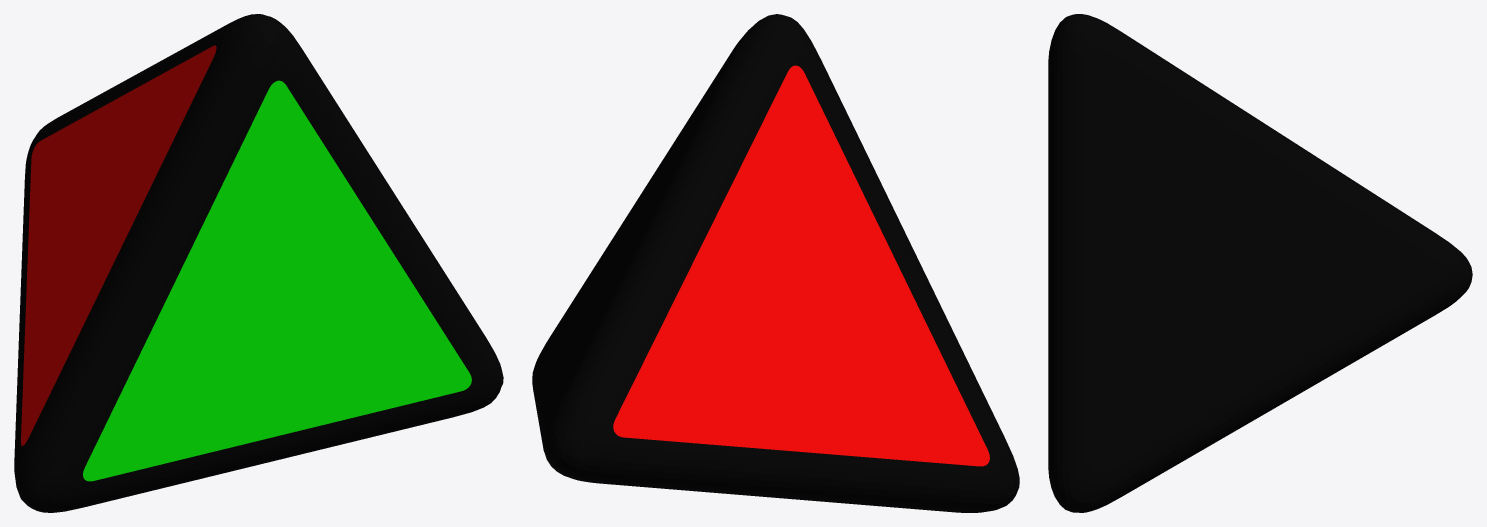
3 renders of one model, left to right at view 1: azimuth 30°, elevation 25°; view 2: azimuth 150°, elevation 25°; view 3: azimuth 270°, elevation 25°, orthographic. The views are drawn at different scales.
Visible parts, largest first — view 1: t_gr; view 2: t_gr; view 3: t_gr.
Part boxes in pixels (<box>): t_gr: <box>14,14,503,512</box>; t_gr: <box>532,14,1019,512</box>; t_gr: <box>1048,14,1472,512</box>.
Bounding box in the file's own units: 135 × 121 × 115.
